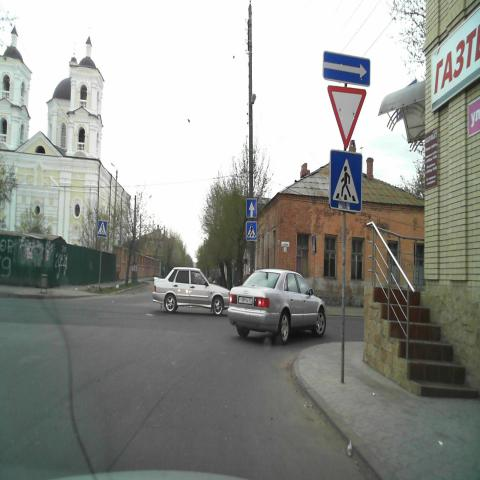5_7_1: (322, 51, 370, 86)
